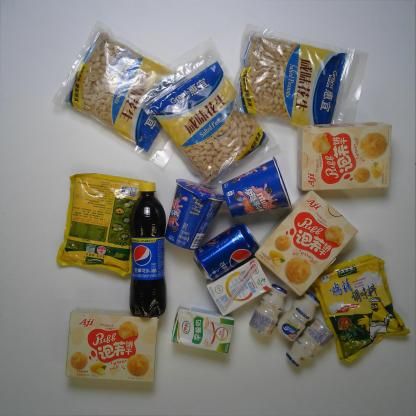Dessert: (253, 190, 359, 297), (64, 307, 159, 384), (295, 122, 392, 191), (163, 178, 226, 252), (220, 155, 292, 218)
Dried Fruit: (128, 35, 280, 190), (51, 21, 202, 170), (224, 22, 368, 135)
Drink: (129, 181, 167, 318), (192, 221, 260, 283)
Milk: (206, 257, 272, 316), (171, 304, 235, 356), (285, 318, 334, 368), (276, 291, 320, 342), (248, 282, 288, 338)
Seasoner: (311, 254, 411, 364), (56, 172, 152, 278)
